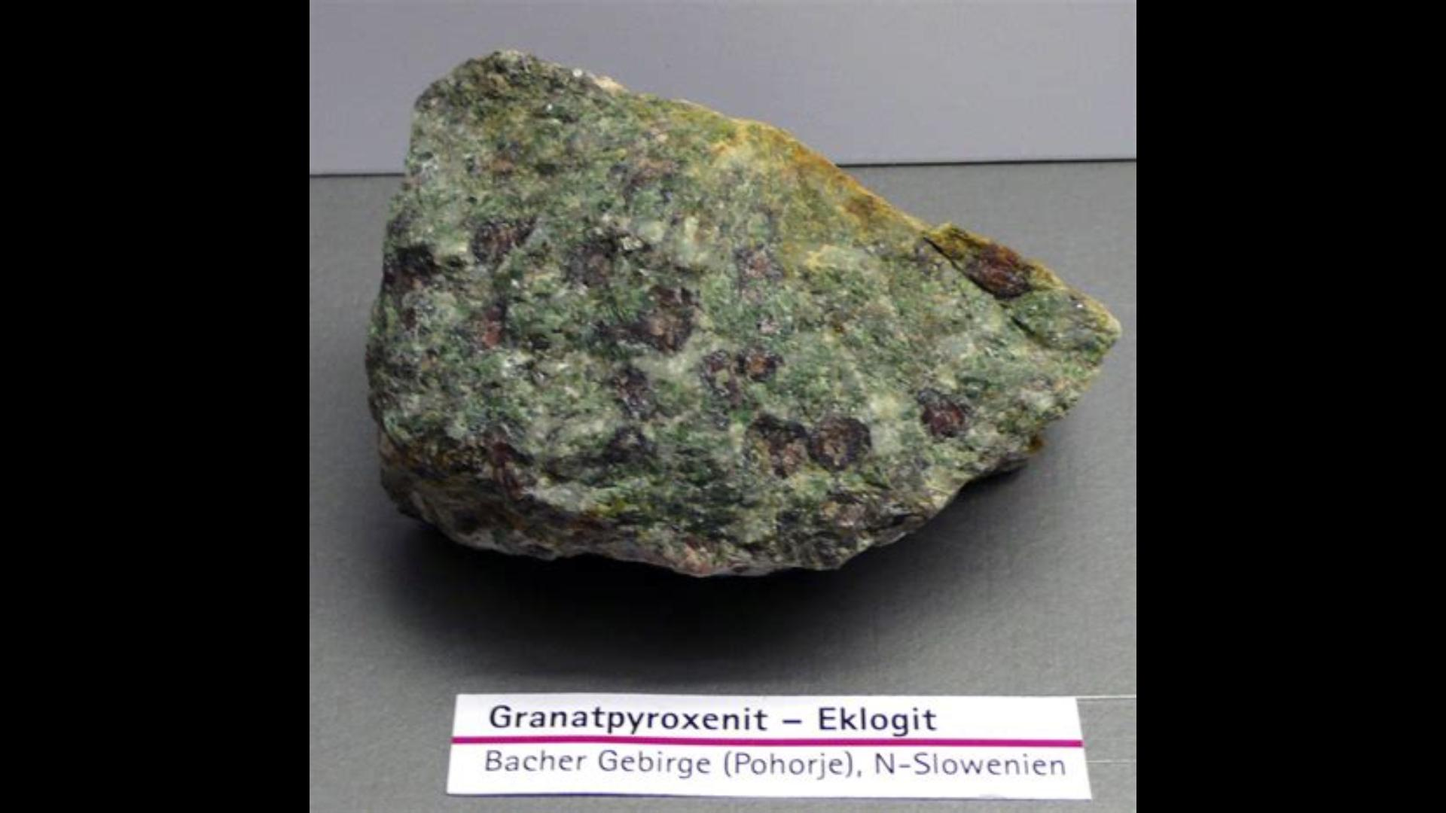rock: (367, 52, 1116, 572)
